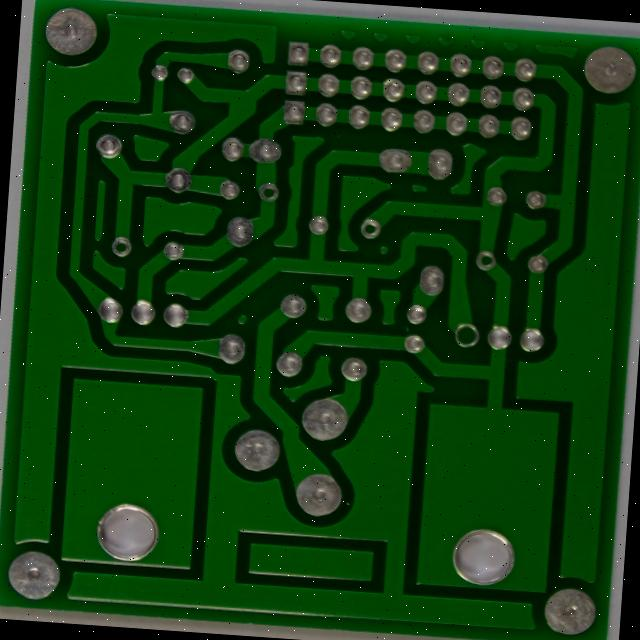missing_hole: (527, 281, 562, 315), (301, 125, 328, 150), (553, 202, 580, 227), (419, 167, 445, 191), (130, 187, 156, 210)
